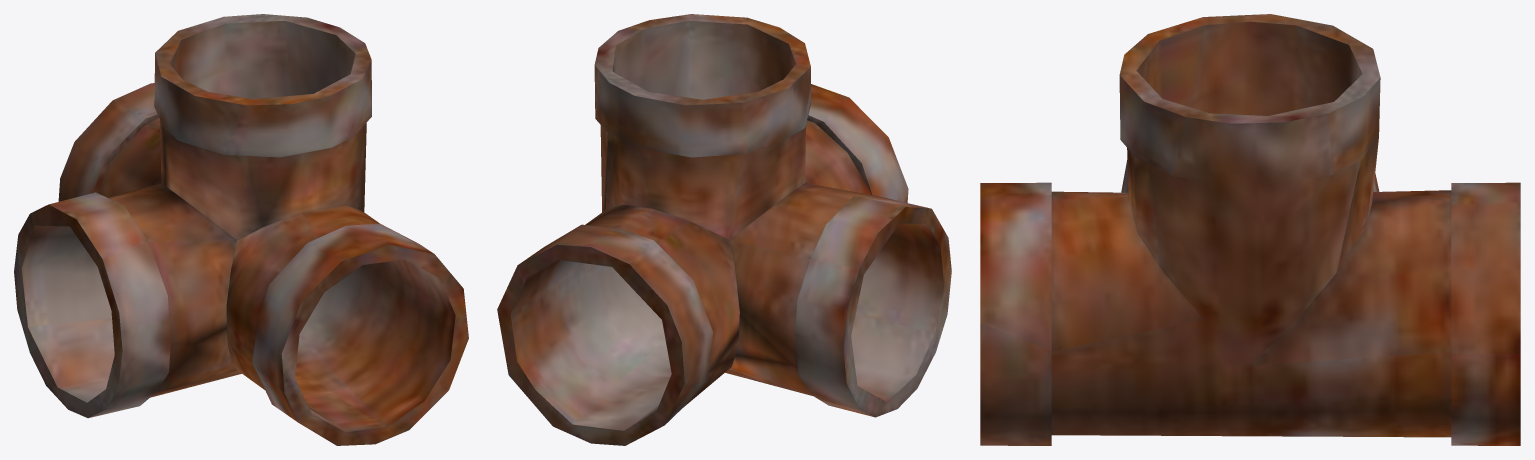
Rendered from small_steel_pipe_15.glb.
3 renders of one model, left to right at view 1: azimuth 30°, elevation 25°; view 2: azimuth 150°, elevation 25°; view 3: azimuth 270°, elevation 25°, orthographic. The views are drawn at different scales.
Visible parts, largest first — view 1: small_steel_pipe_15; view 2: small_steel_pipe_15; view 3: small_steel_pipe_15.
Part boxes in pixels (x1=…): small_steel_pipe_15: x1=14, y1=14, x2=468, y2=445; small_steel_pipe_15: x1=497, y1=14, x2=951, y2=445; small_steel_pipe_15: x1=980, y1=14, x2=1520, y2=445.
Size of what is drawn, in the model's own units: 0.0331 by 0.033 by 0.0444.
Materials: 1 (1 with a texture image).
